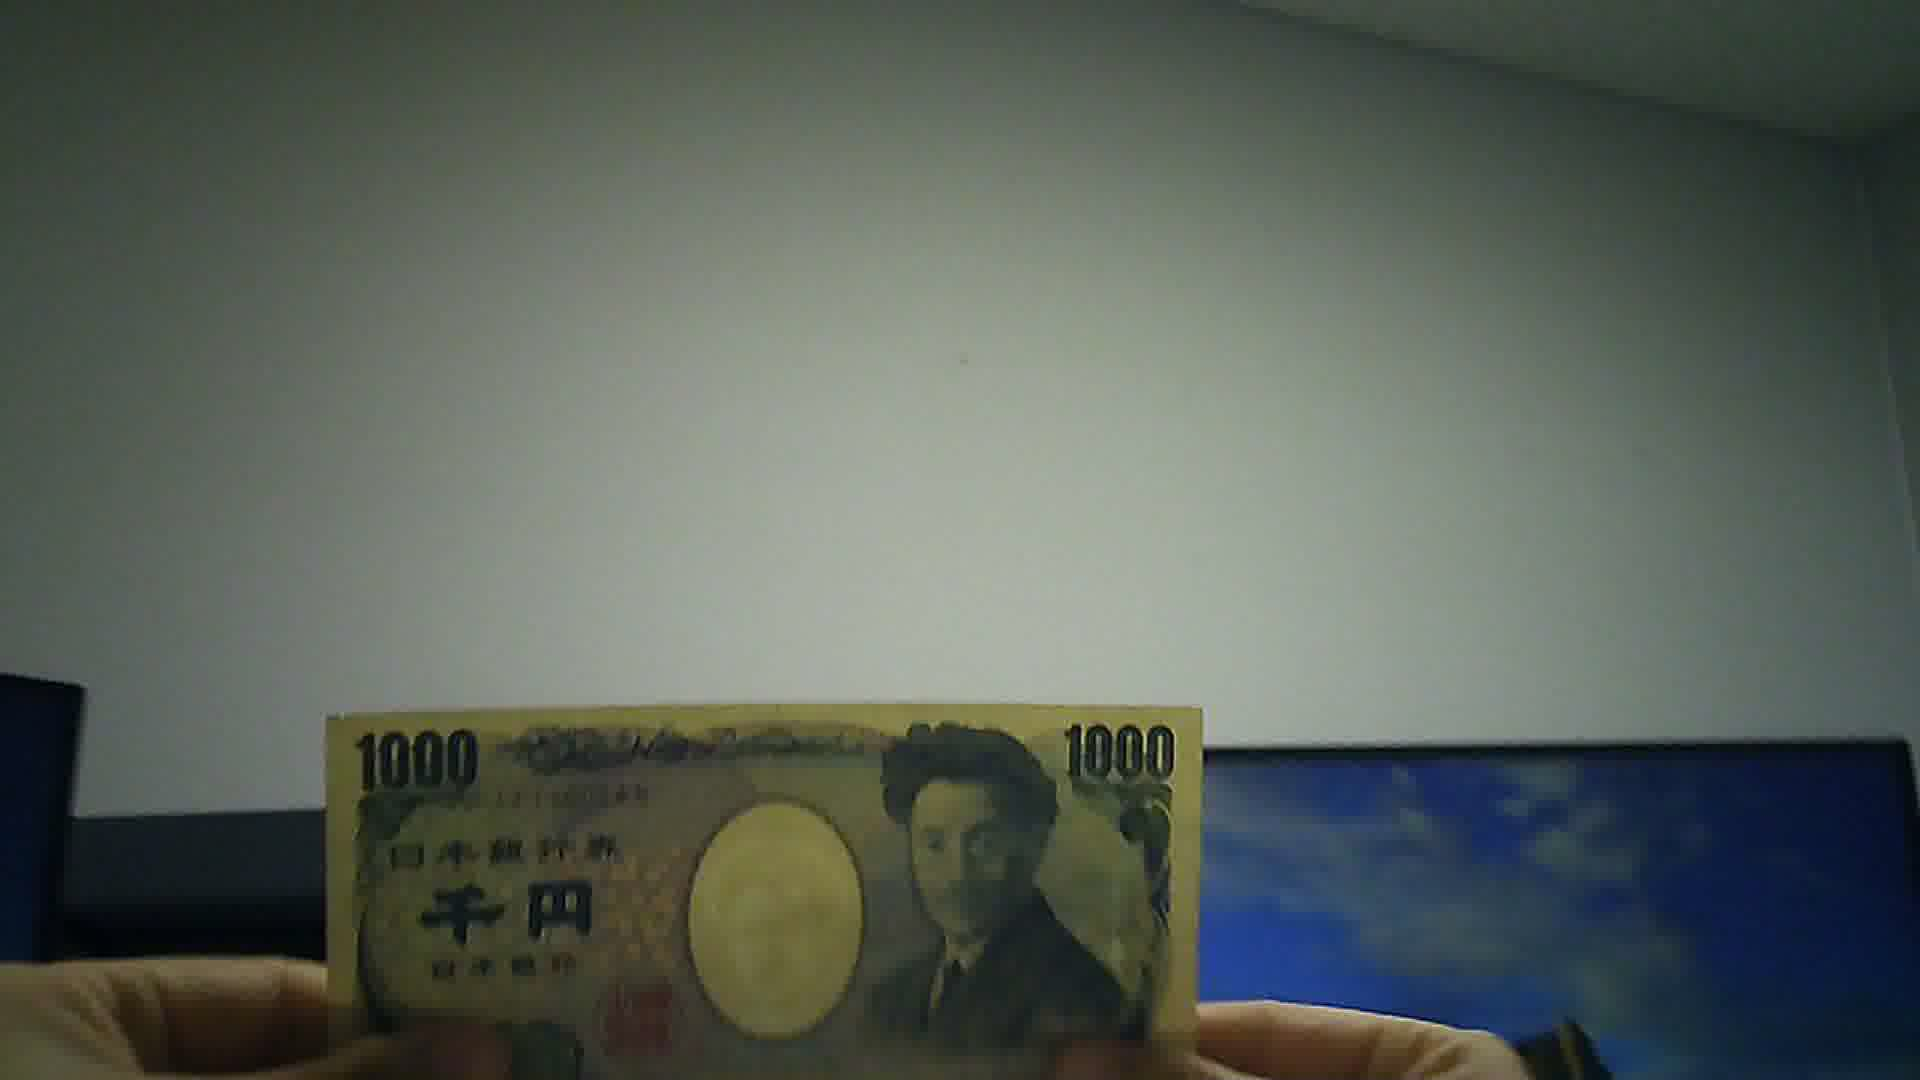1,000 Yen: (311, 703, 1218, 1079)
